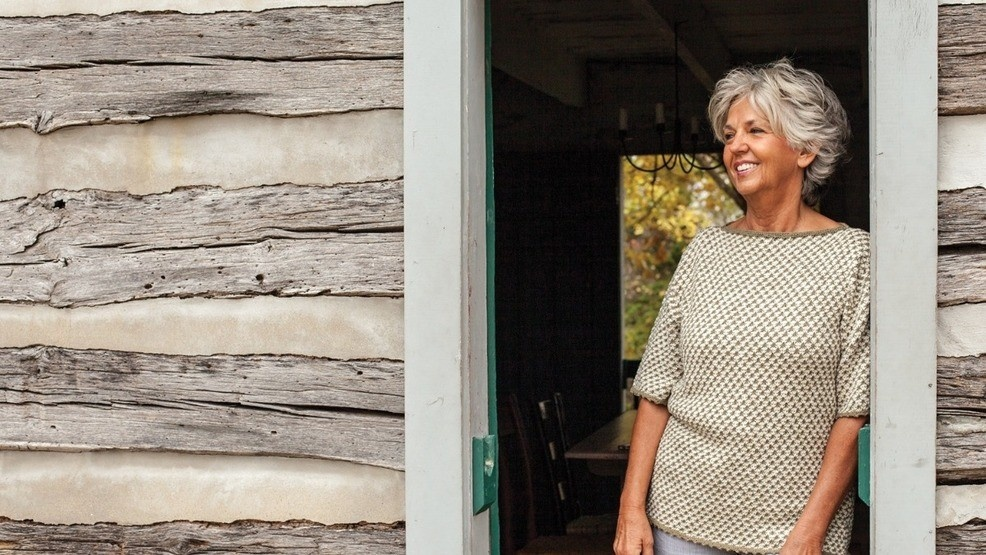mouth: (729, 159, 760, 175)
nose: (727, 143, 748, 156)
